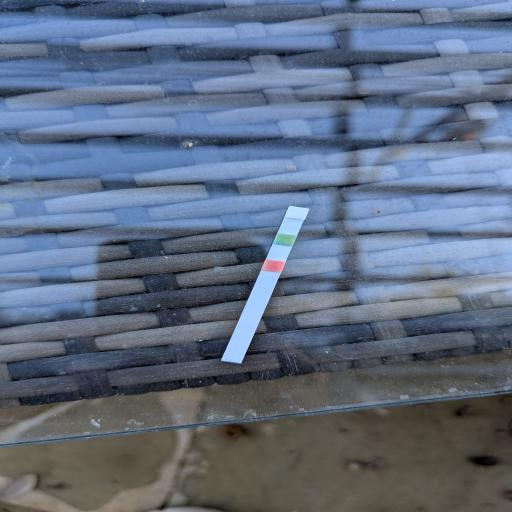strip: (221, 206, 310, 363)
